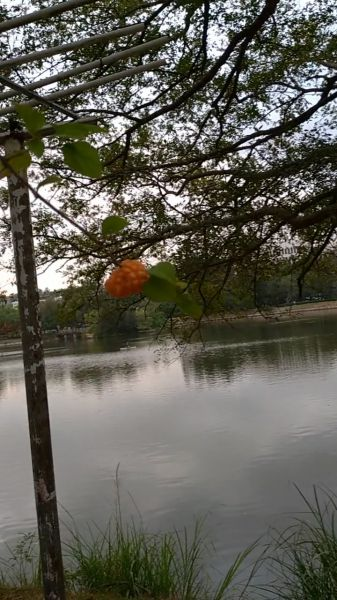eggs: (98, 257, 156, 302)
